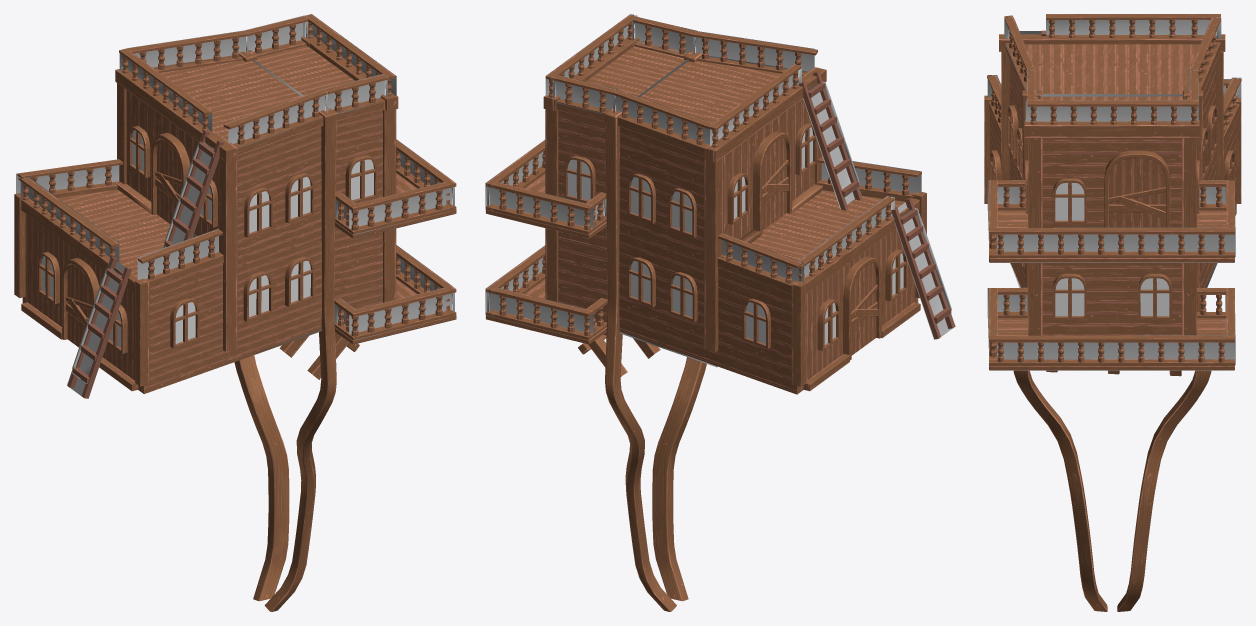
File: SM_Ship_Part_03.gltf
The picture shows the model from 3 angles, left to right: view 1: azimuth 30°, elevation 25°; view 2: azimuth 150°, elevation 25°; view 3: azimuth 270°, elevation 25°; orthographic projection. The views are drawn at different scales.
Parts seen in each view (by area): view 1: SM_Ship_Part_03_LOD0, SM_Ship_Part_03_ConvexHulls; view 2: SM_Ship_Part_03_LOD0, SM_Ship_Part_03_ConvexHulls; view 3: SM_Ship_Part_03_LOD0, SM_Ship_Part_03_ConvexHulls.
Part boxes in pixels (x1=…): SM_Ship_Part_03_LOD0: x1=14, y1=14, x2=456, y2=611; SM_Ship_Part_03_ConvexHulls: x1=16, y1=14, x2=456, y2=398; SM_Ship_Part_03_LOD0: x1=486, y1=15, x2=954, y2=611; SM_Ship_Part_03_ConvexHulls: x1=485, y1=14, x2=955, y2=367; SM_Ship_Part_03_LOD0: x1=984, y1=14, x2=1241, y2=611; SM_Ship_Part_03_ConvexHulls: x1=987, y1=14, x2=1241, y2=370.
Size of what is drawn, in the model's own units: 10.85 by 15.44 by 6.55.
Materials: 4 (2 with a texture image).
